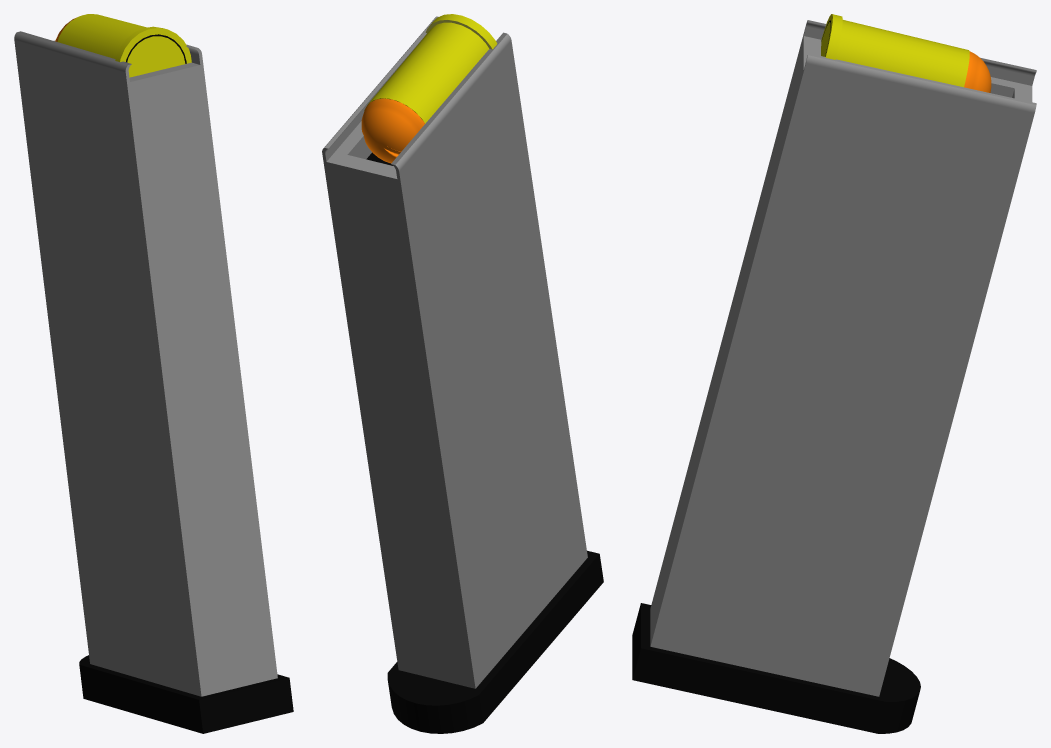
File: FULL_MAG.fbx
3 views of the same model, side by side, from view 1: azimuth 30°, elevation 25°; view 2: azimuth 150°, elevation 25°; view 3: azimuth 270°, elevation 25° (orthographic). The views are drawn at different scales.
Visible parts, largest first — view 1: Model; view 2: Model; view 3: Model.
Part boxes in pixels (x1,y1,x2,y2): Model: (14,14,293,733); Model: (322,14,603,733); Model: (632,14,1036,733).
Size of the model in its own units: 0.2963 by 2.13 by 1.12.
